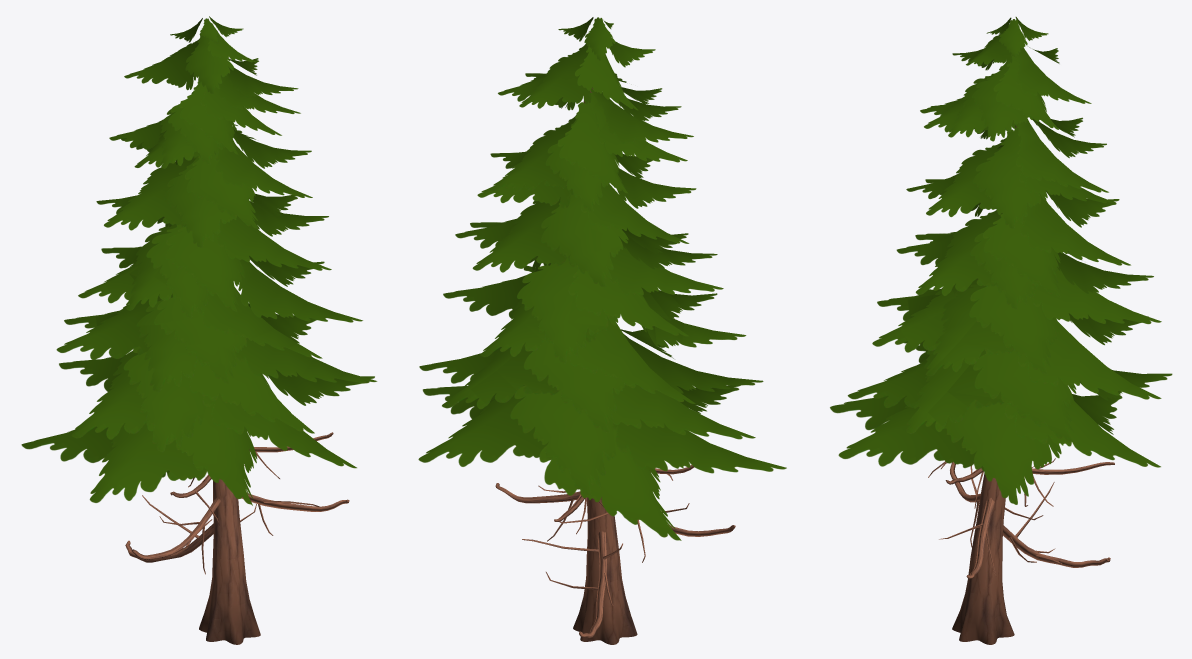
The model's file is pine_1.glb.
The picture shows the model from 3 angles, left to right: view 1: azimuth 30°, elevation 25°; view 2: azimuth 150°, elevation 25°; view 3: azimuth 270°, elevation 25°; orthographic projection. The views are drawn at different scales.
Visible parts, largest first — view 1: Pine_4; view 2: Pine_4; view 3: Pine_4.
Boxes of the visible parts, <box> form: Pine_4: <box>21,16,377,644</box>; Pine_4: <box>418,17,786,644</box>; Pine_4: <box>830,17,1172,644</box>.
Bounding box in the file's own units: 5.8 × 10.24 × 5.37.
Materials: 2 (2 with a texture image).
